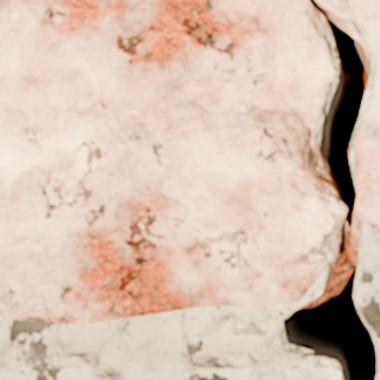broken_brick: (0, 0, 345, 326), (324, 0, 379, 232)
crack: (282, 0, 379, 379)
